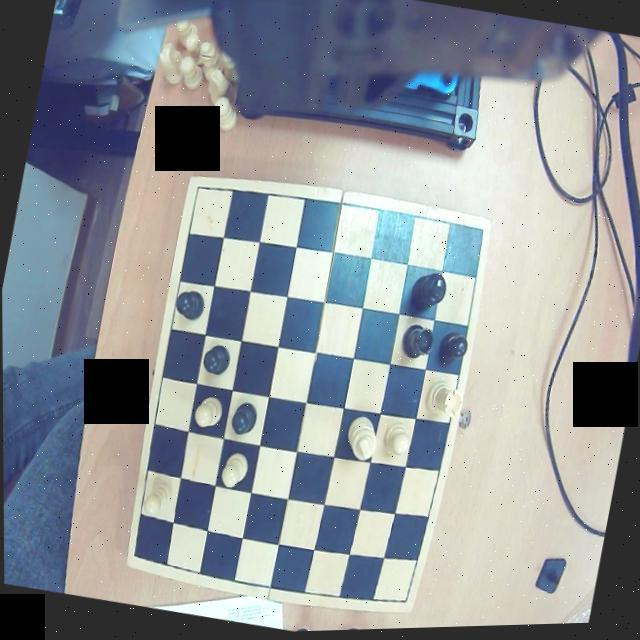chess-table-corners: (466, 220, 490, 250), (188, 175, 213, 202), (124, 540, 144, 570), (389, 591, 412, 617)
